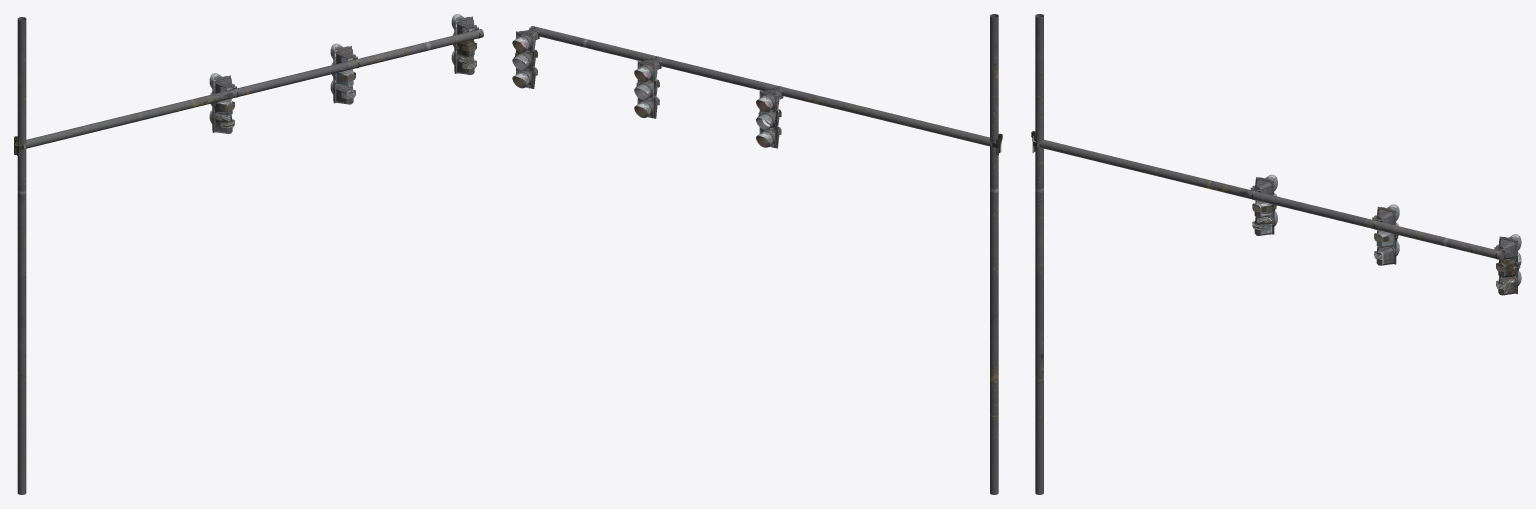
3 views of the same model, side by side, from view 1: azimuth 30°, elevation 25°; view 2: azimuth 150°, elevation 25°; view 3: azimuth 330°, elevation 25° (orthographic).
Parts seen in each view (by area): view 1: Cylinder.007_7, Cylinder.004_6, Cube.009_0, Cube.010_1, Cube.018_5, Cylinder.011_11; view 2: Cylinder.007_7, Cylinder.004_6, Cube.009_0, Cube.010_1, Cube.018_5, Cylinder.011_11; view 3: Cylinder.007_7, Cylinder.004_6, Cube.018_5, Cube.010_1, Cube.009_0, Cylinder.011_11.
Boxes of the visible parts, x1,y1,x2,y2 form: Cylinder.007_7: [26, 29, 483, 148]; Cylinder.004_6: [14, 108, 26, 494]; Cube.009_0: [330, 43, 355, 104]; Cube.010_1: [209, 73, 234, 133]; Cube.018_5: [451, 14, 476, 74]; Cylinder.011_11: [14, 17, 26, 157]; Cylinder.007_7: [530, 26, 990, 146]; Cylinder.004_6: [990, 106, 1002, 494]; Cube.009_0: [634, 59, 659, 118]; Cube.010_1: [756, 89, 781, 148]; Cube.018_5: [512, 29, 537, 88]; Cylinder.011_11: [990, 14, 1001, 155]; Cylinder.007_7: [1039, 139, 1504, 260]; Cylinder.004_6: [1031, 106, 1043, 494]; Cube.018_5: [1496, 234, 1521, 295]; Cube.010_1: [1252, 174, 1277, 235]; Cube.009_0: [1374, 204, 1399, 265]; Cylinder.011_11: [1032, 14, 1043, 152].
Size of the model in its own units: 7.32 by 7.03 by 0.613.
Materials: 4 (1 with a texture image).
